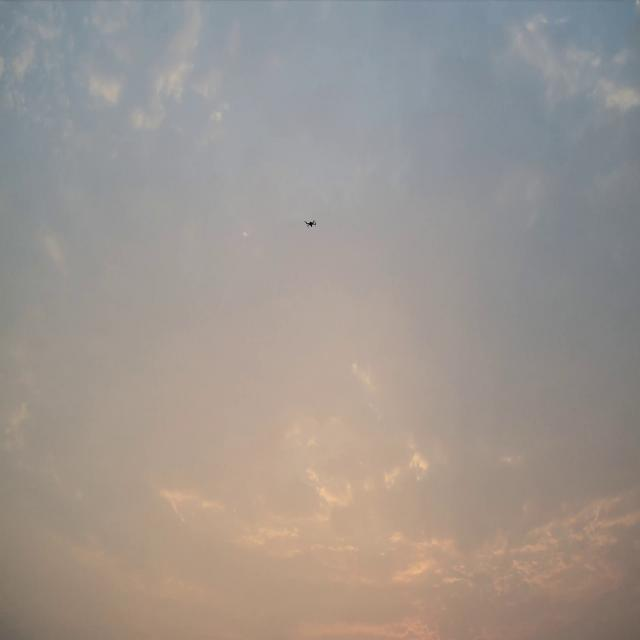drone: (304, 219, 316, 228)
